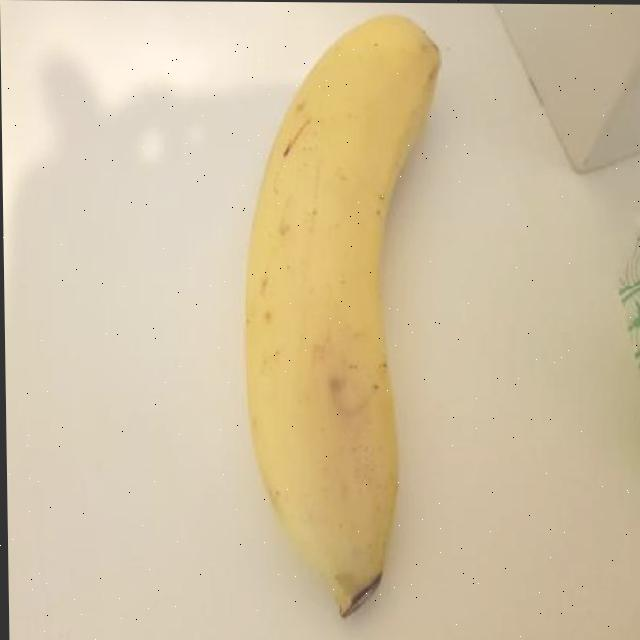banana: (231, 8, 455, 626)
